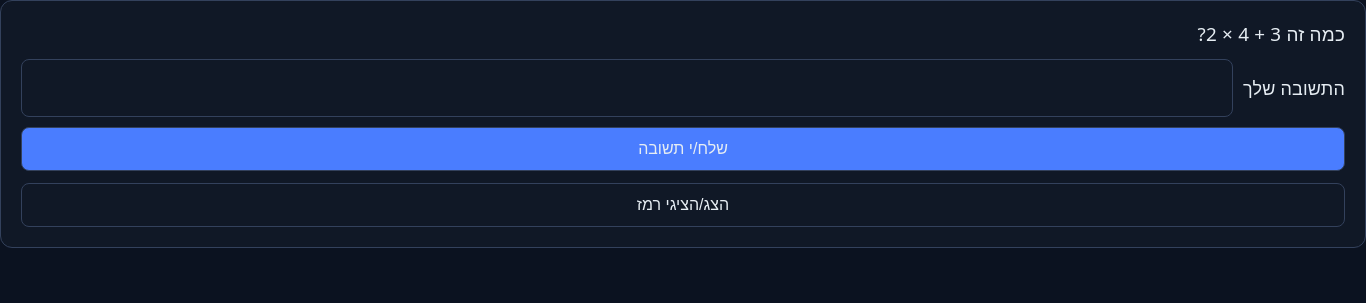
Test: MathExercisePanel › hint text is hidden until the hint button is clicked
Step 1. Click the button with test id "math-hint-button" → point(683, 205), box [21,183,1345,227]
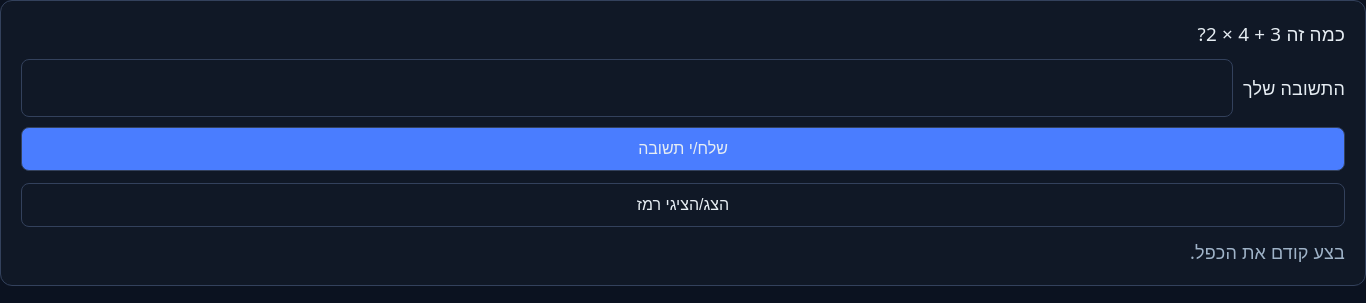
Result: the text with test id "math-hint-text" reads "בצע קודם את הכפל." at [1190,240,1345,264]
